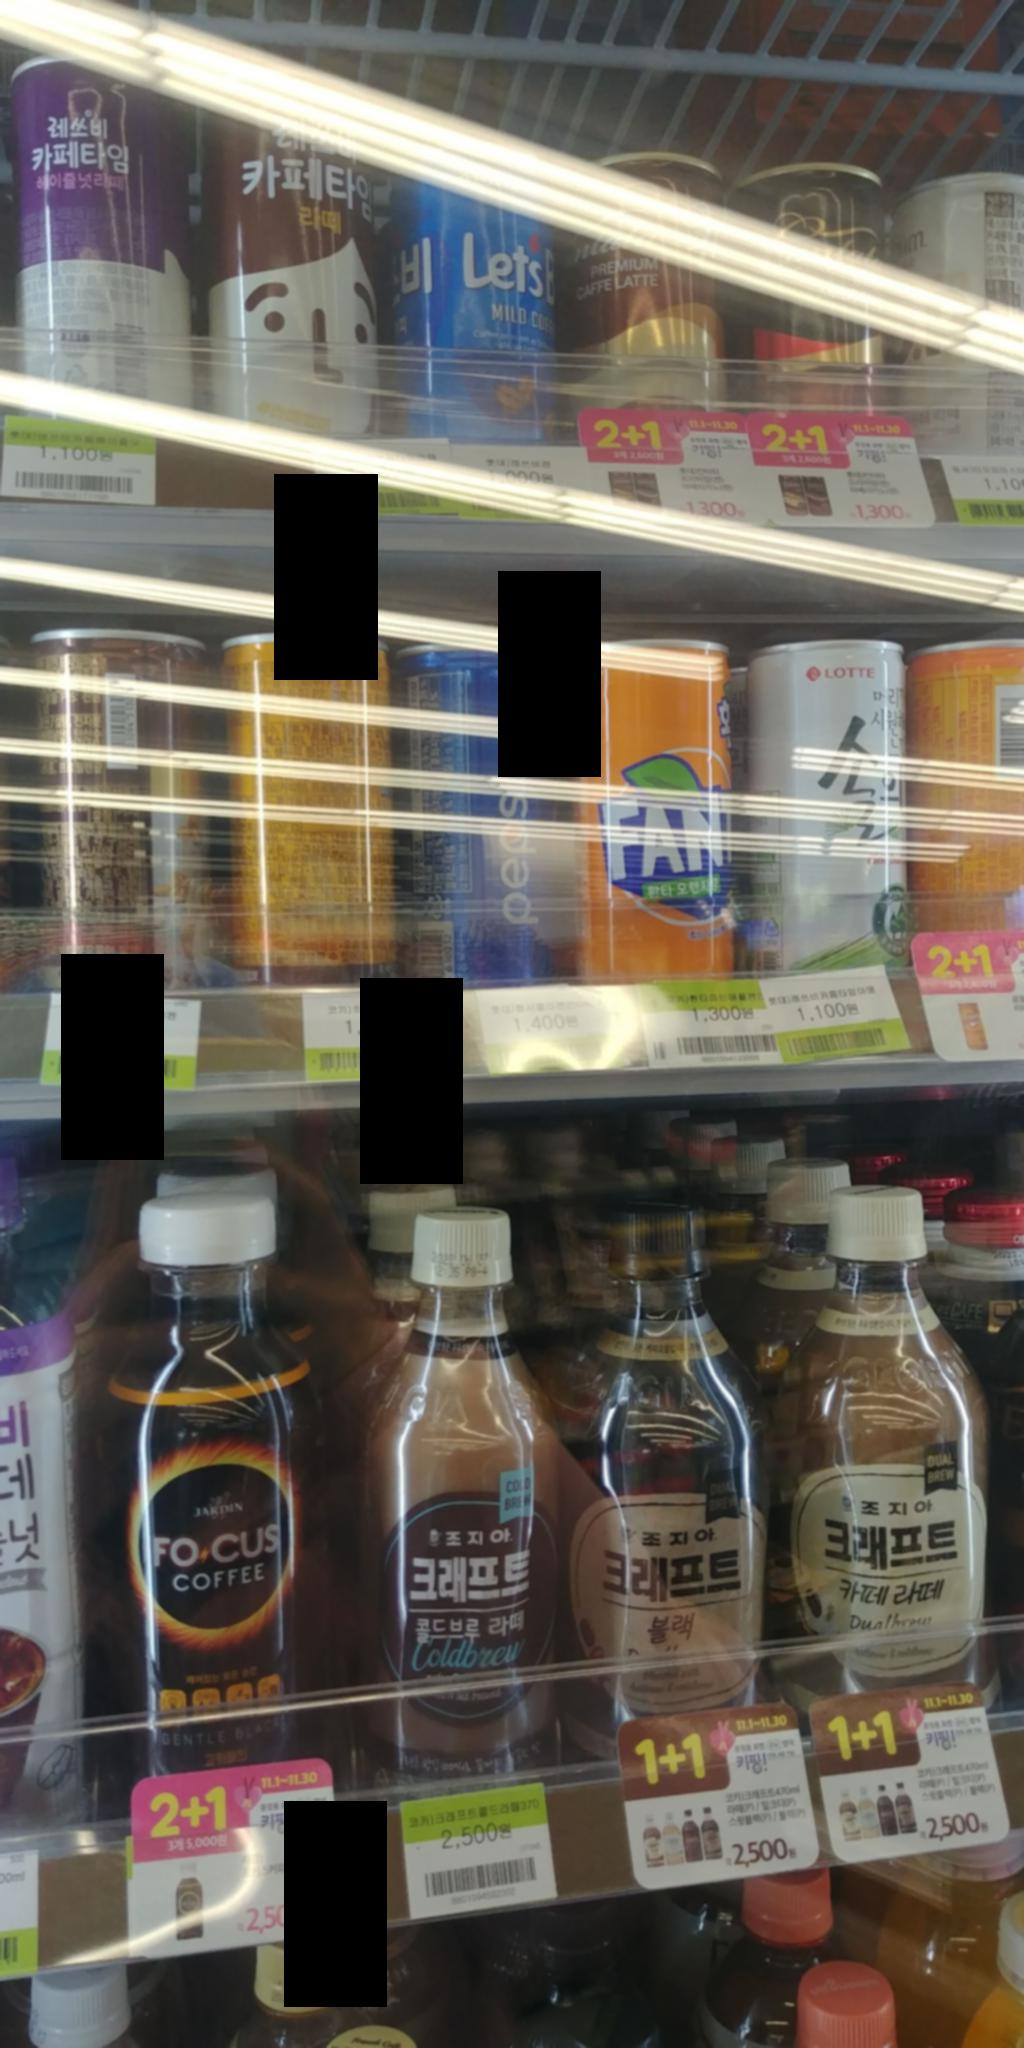georgiacraft_black: (552, 1192, 777, 1768)
letsbe: (377, 148, 562, 455)
